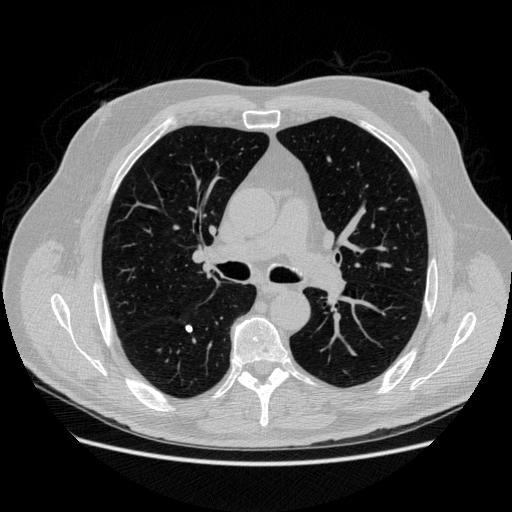nodule: (183, 323, 195, 335)
